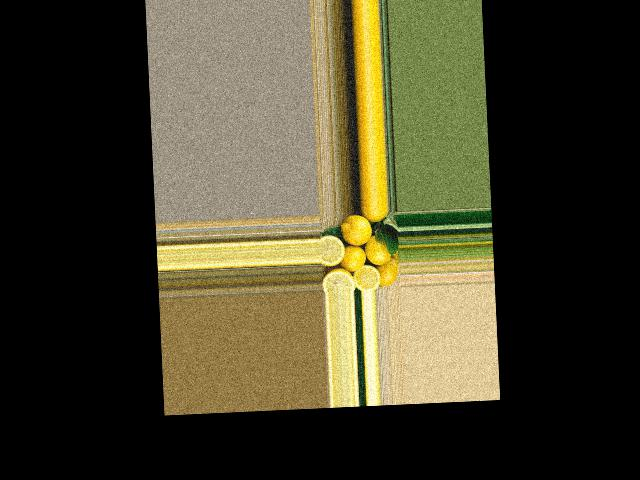lemon: (375, 256, 399, 287)
